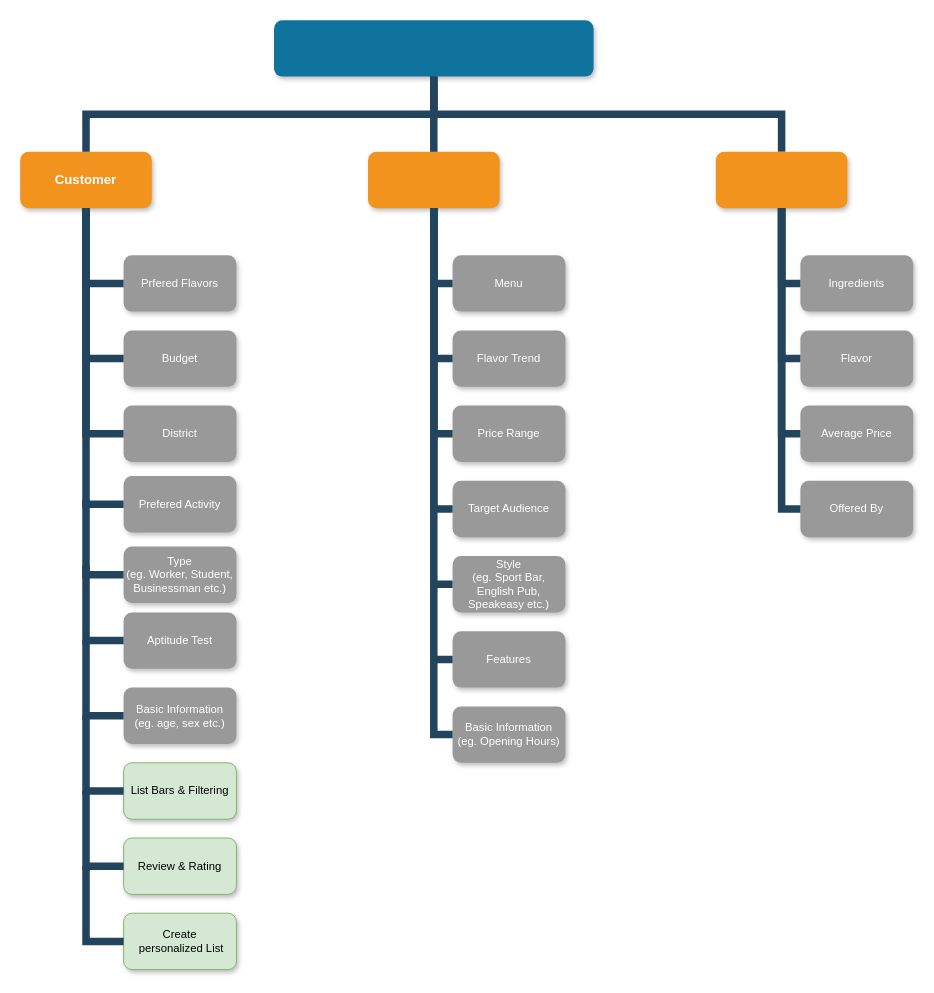
The diagram is 934 pixels wide and 993 high, and some of its shapes have lost their labels. Each missing label, with the centre of its shape:
Bar Recommendation System: the point at 434,49
Bars: the point at 434,181
Cocktail: the point at 782,181
